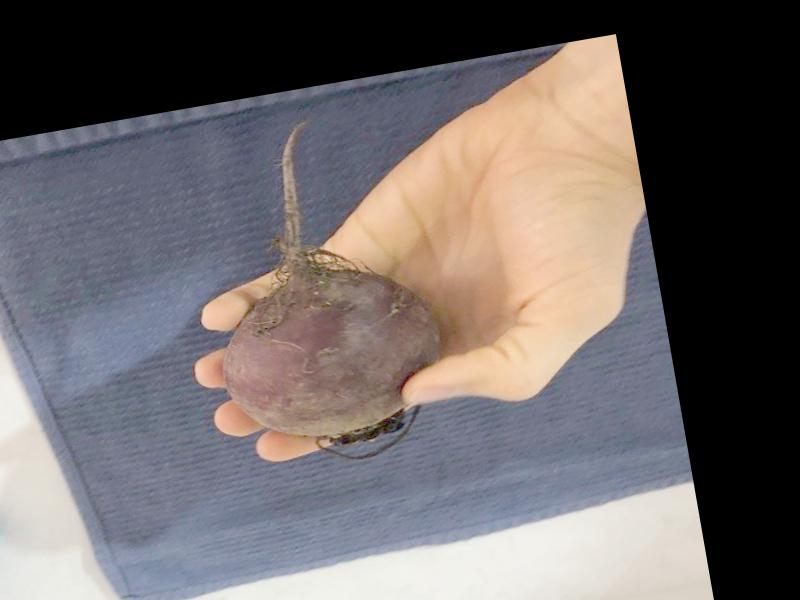Beet: (182, 104, 457, 479)
